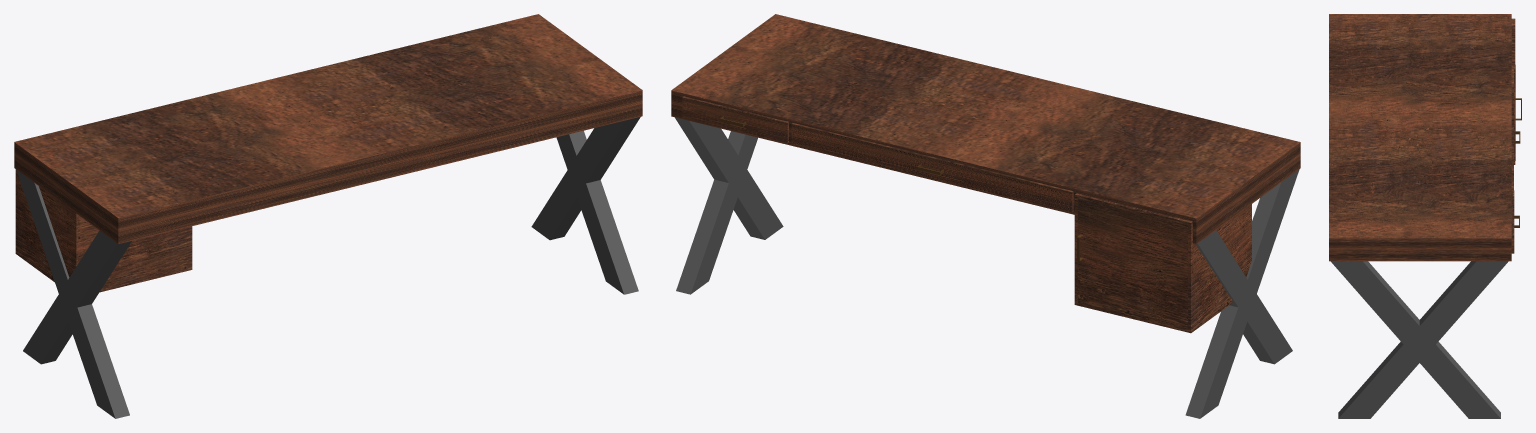
Rendered from Desk.fbx.
3 views of the same model, side by side, from view 1: azimuth 30°, elevation 25°; view 2: azimuth 150°, elevation 25°; view 3: azimuth 270°, elevation 25° (orthographic). The views are drawn at different scales.
Visible parts, largest first — view 1: Desk; view 2: Desk, CabinetDoor, MainDrawer, SmallLeftDrawer; view 3: Desk, MainDrawer, SmallLeftDrawer.
Boxes of the visible parts, x1,y1,x2,y2 form: Desk: (14,14,642,418); Desk: (671,14,1300,418); CabinetDoor: (1077,198,1187,329); MainDrawer: (791,123,1073,212); SmallLeftDrawer: (682,96,788,143); Desk: (1329,14,1515,418); MainDrawer: (1511,69,1520,190); SmallLeftDrawer: (1511,190,1519,253).
Bounding box in the file's own units: 999 × 373 × 362.
Materials: 3 (1 with a texture image).
